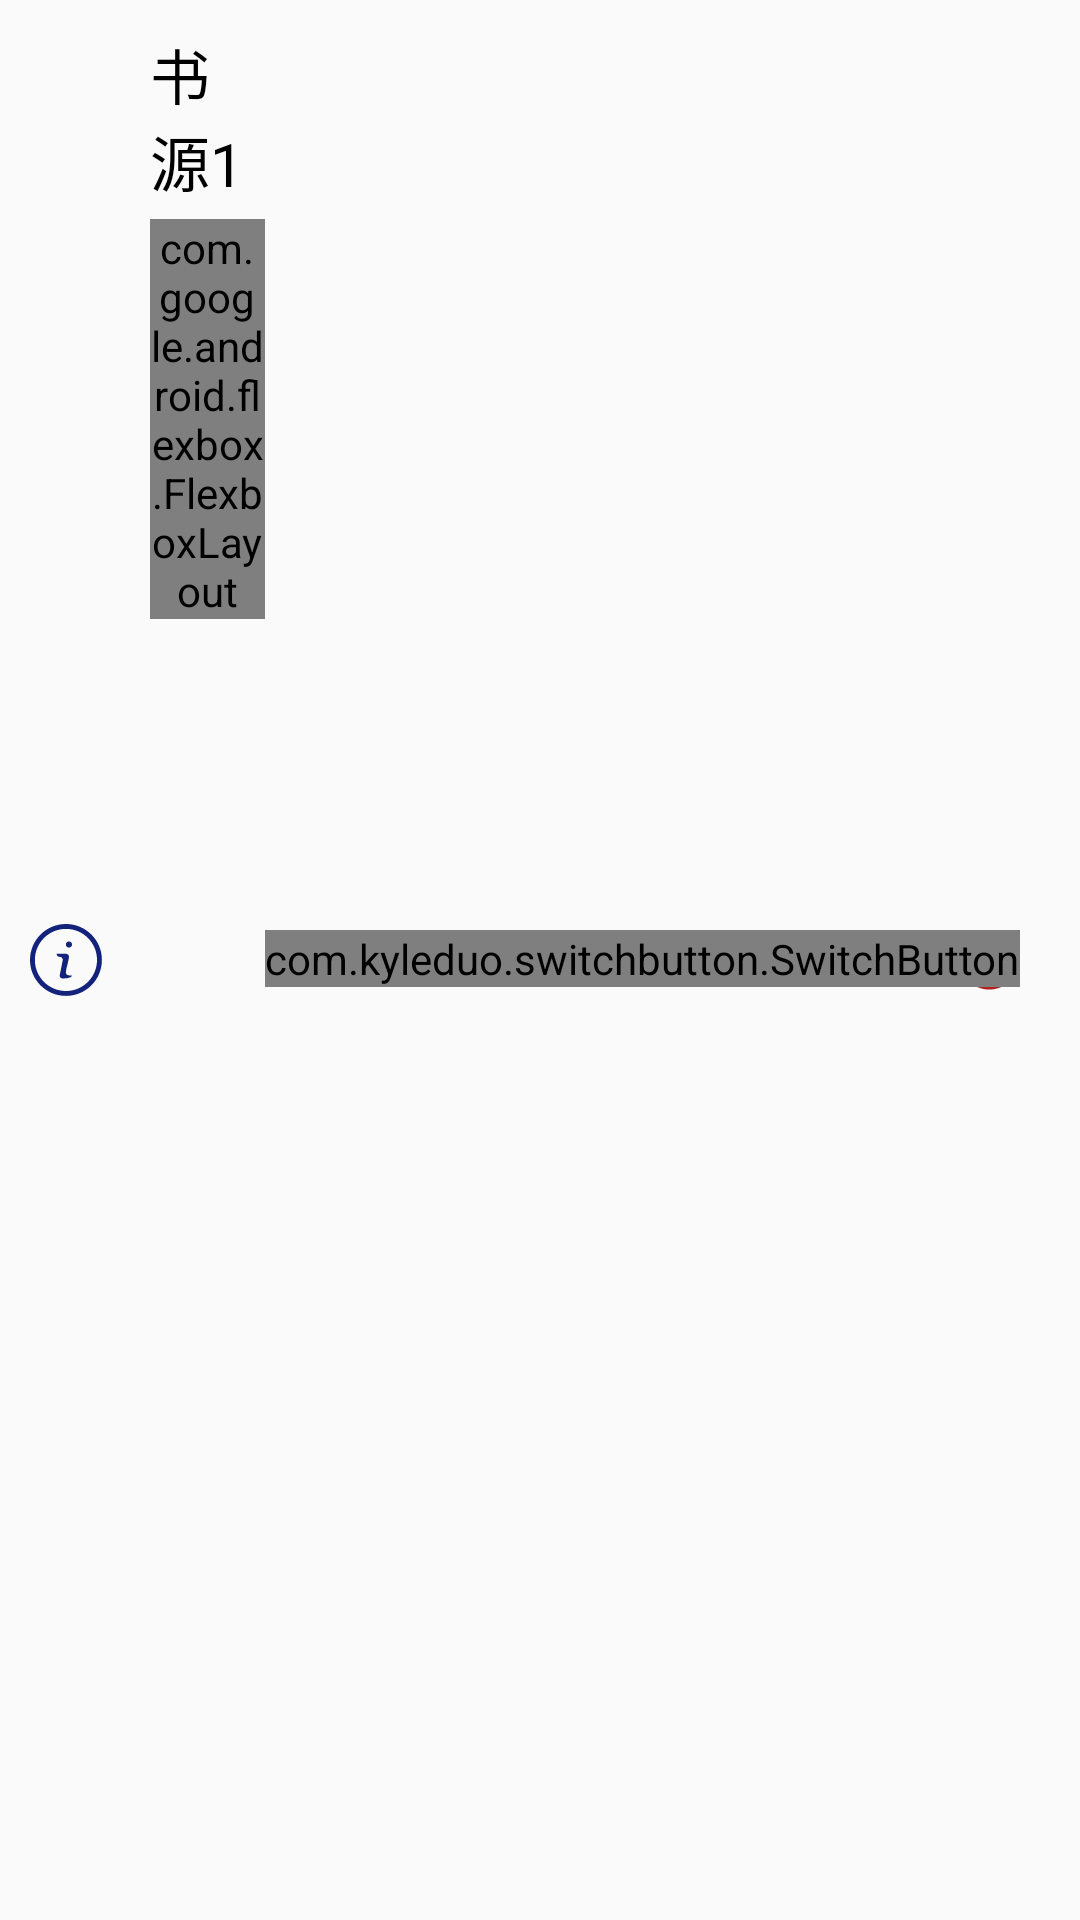

Where icons sit on this 1080 × 1920 app screen, as (x1, y1, x2, y2):
show info: (30, 924, 102, 996)
